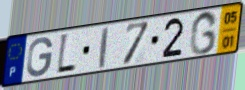2: (161, 16, 186, 60)
7: (122, 19, 151, 67)
G: (188, 9, 220, 57), (25, 36, 55, 79)
I: (98, 25, 110, 71)
L: (55, 32, 78, 77)
